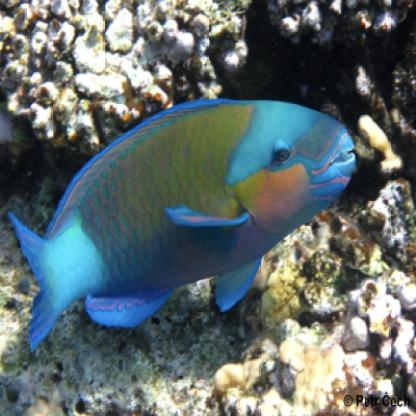Scaridae -Parrotfishes-: (9, 95, 365, 359)
